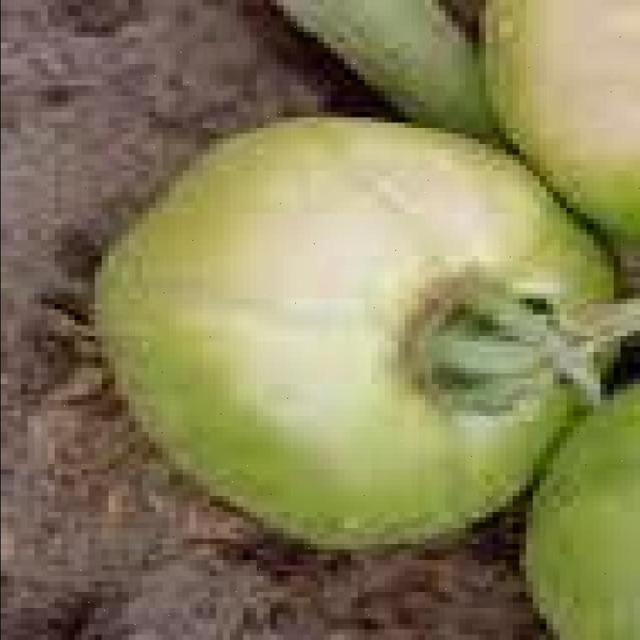Sunscald Fruit: (76, 80, 388, 239)
